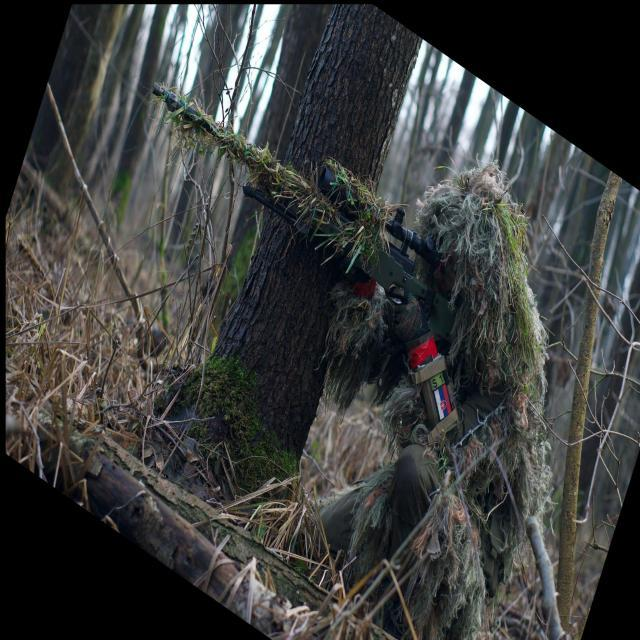weapon: (153, 80, 458, 348)
